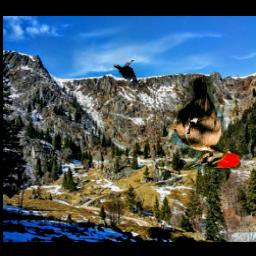Crow: (114, 59, 140, 84)
Woodpecker: (167, 77, 242, 171)
